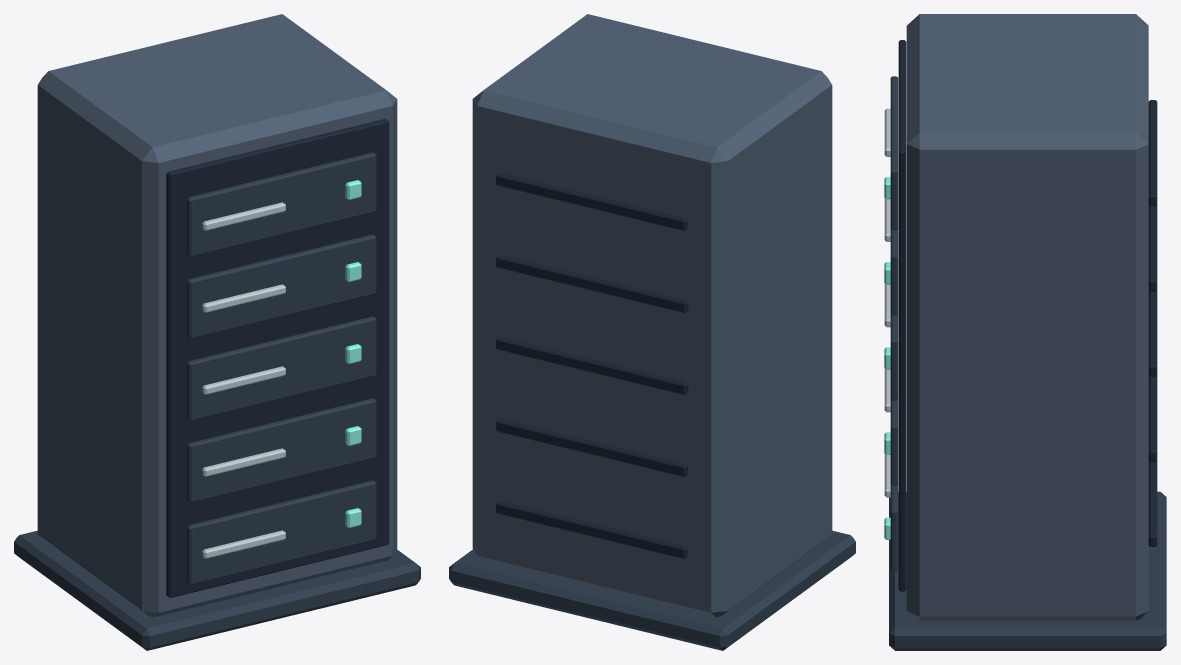
Rendered from 03_Server_Tower.glb.
3 renders of one model, left to right at view 1: azimuth 30°, elevation 25°; view 2: azimuth 150°, elevation 25°; view 3: azimuth 270°, elevation 25°, orthographic. The views are drawn at different scales.
Parts seen in each view (by area): view 1: 03_Server_Tower__Body; view 2: 03_Server_Tower__Body; view 3: 03_Server_Tower__Body.
Boxes of the visible parts, x1,y1,x2,y2 form: 03_Server_Tower__Body: [14, 14, 420, 650]; 03_Server_Tower__Body: [449, 14, 855, 650]; 03_Server_Tower__Body: [884, 14, 1166, 650].
Size of the model in its own units: 2.35 by 3.95 by 1.98.
1 material, 1 textured.
